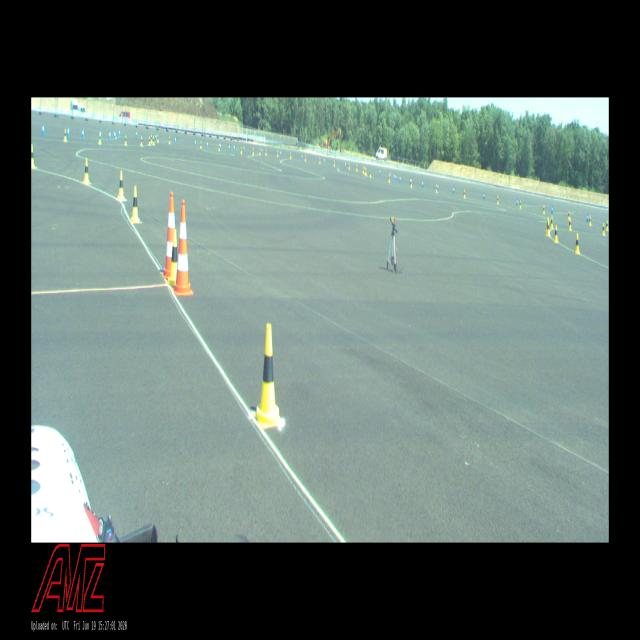blue_cone: (42, 123, 45, 135), (67, 126, 70, 138), (174, 136, 177, 144), (109, 129, 111, 140), (194, 139, 197, 146), (82, 128, 84, 138), (483, 190, 485, 200), (437, 182, 439, 192), (100, 130, 102, 140), (114, 129, 116, 139), (136, 130, 138, 139), (516, 197, 518, 206), (552, 205, 554, 214), (118, 129, 120, 137), (586, 214, 588, 222), (379, 168, 381, 176), (243, 144, 245, 152), (393, 173, 395, 180), (155, 133, 157, 140), (399, 175, 401, 182), (395, 174, 397, 181), (389, 172, 391, 178), (301, 154, 303, 160), (280, 150, 282, 156), (422, 180, 423, 189), (453, 186, 454, 194), (410, 176, 411, 184), (345, 161, 346, 168), (207, 141, 208, 148), (229, 144, 230, 150), (234, 145, 235, 151), (220, 144, 221, 150), (262, 147, 262, 153), (324, 158, 324, 163)
large_orange_cone: (172, 200, 194, 295), (162, 193, 176, 278)
yellow_cone: (254, 324, 281, 427), (168, 230, 177, 285), (131, 185, 140, 222), (117, 170, 125, 200), (83, 158, 90, 184), (574, 233, 580, 254), (31, 144, 35, 168), (554, 225, 558, 242), (63, 129, 68, 142), (546, 220, 550, 236), (546, 216, 550, 232), (550, 215, 554, 230), (602, 222, 606, 235), (98, 131, 102, 144), (124, 135, 128, 145), (569, 218, 572, 230), (463, 189, 466, 199), (589, 216, 592, 226), (140, 136, 143, 146), (388, 174, 391, 183), (606, 220, 608, 231), (150, 134, 152, 144), (148, 136, 150, 146), (542, 205, 544, 214), (200, 140, 202, 149), (519, 200, 521, 209), (410, 179, 412, 188), (436, 184, 438, 193), (497, 195, 499, 204), (240, 146, 242, 155), (153, 136, 155, 145), (568, 211, 570, 219), (157, 135, 159, 143), (365, 168, 367, 176), (348, 162, 350, 170), (168, 136, 170, 144), (265, 148, 267, 156), (218, 143, 220, 151), (319, 156, 321, 164), (364, 167, 366, 175), (356, 165, 358, 172), (276, 150, 278, 157), (362, 166, 364, 173), (253, 147, 254, 156), (370, 170, 371, 178), (290, 152, 291, 160), (305, 154, 306, 162), (334, 161, 335, 166), (260, 149, 260, 155)
